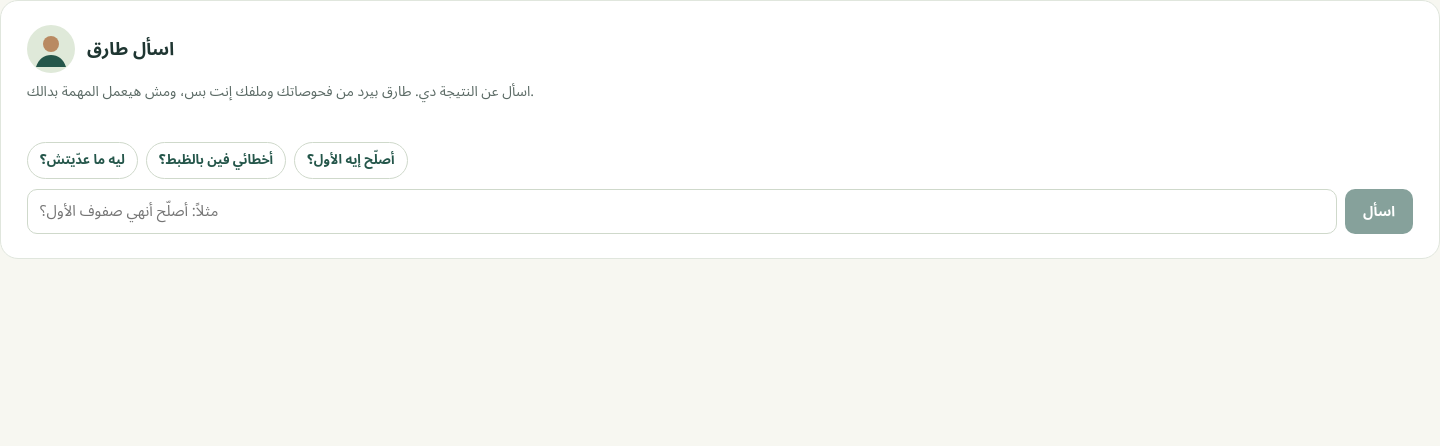
it: AskTarek › asks a typed question in Arabic and labels a guide answer
In the field named "سؤالك": (682, 212) [27, 189, 1337, 234], type "أصلّح إيه الأول؟"
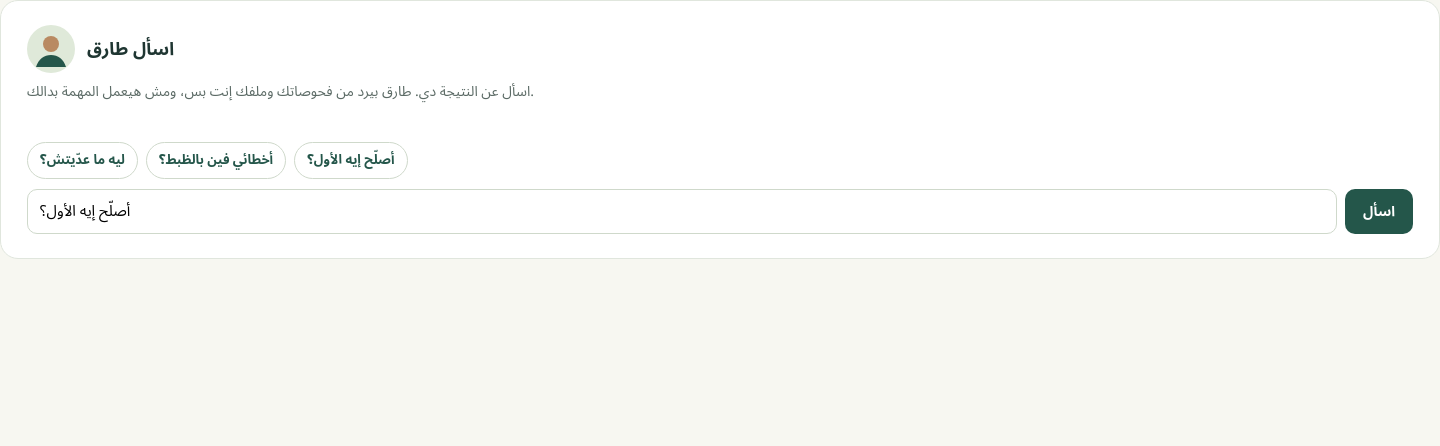
Click the button "اسأل": (1379, 212) [1345, 189, 1413, 234]
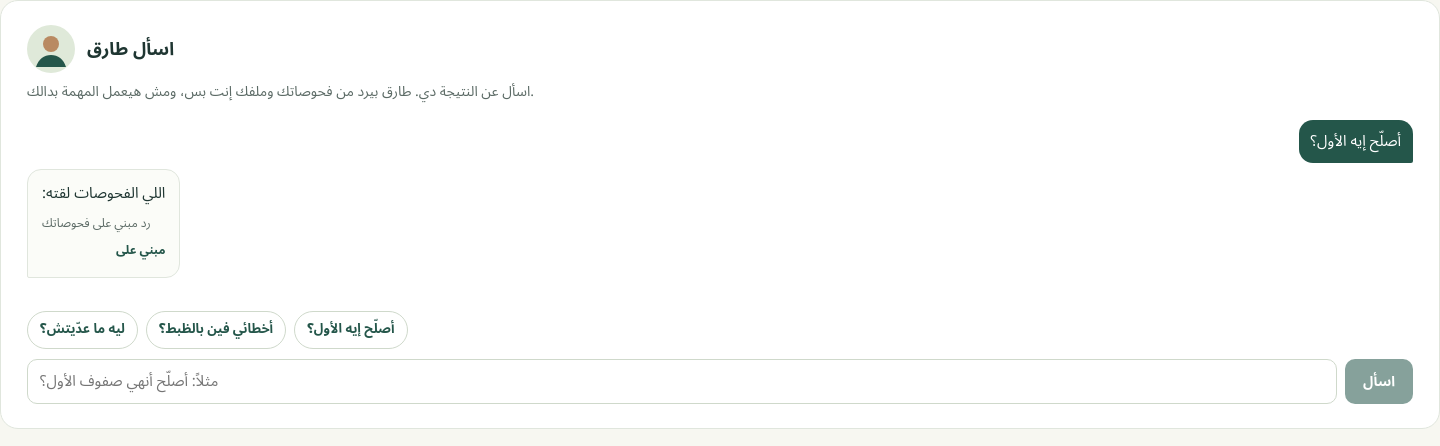
Check: the text "رد مبني على فحوصاتك" is shown, box [42, 213, 165, 235]
Check: the field named "سؤالك" is empty, box [27, 359, 1337, 404]
